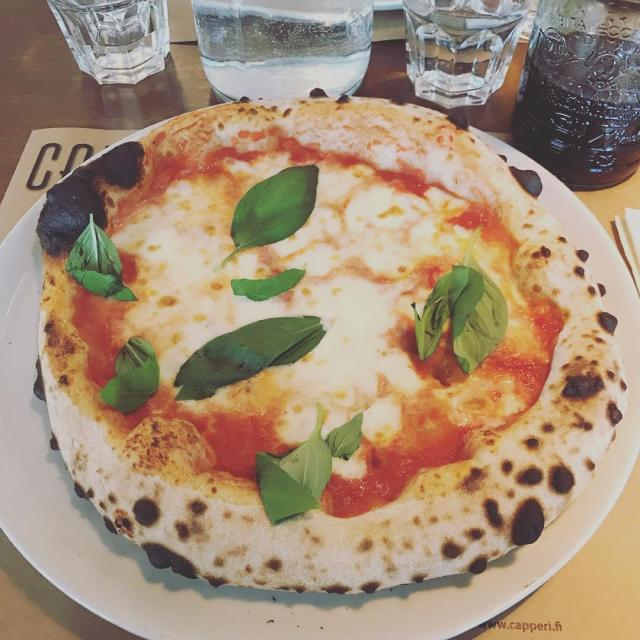basil: (412, 227, 508, 374), (174, 316, 325, 400), (220, 165, 319, 267), (65, 215, 136, 301), (276, 404, 332, 500), (256, 452, 320, 524), (100, 356, 159, 413), (232, 269, 306, 301), (325, 412, 362, 460), (115, 338, 155, 374)
pizza: (37, 99, 625, 593)
